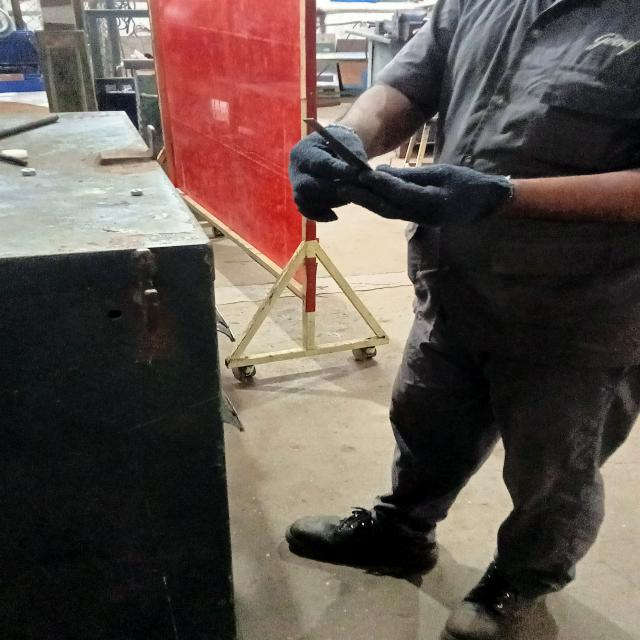Gloves-Detection: (294, 120, 514, 231)
